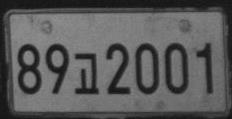0: (163, 42, 189, 94), (134, 41, 159, 94)
1: (195, 42, 219, 94)
2: (105, 42, 131, 94)
8: (16, 42, 42, 94)
9: (44, 42, 69, 94)
고: (73, 52, 99, 94)
